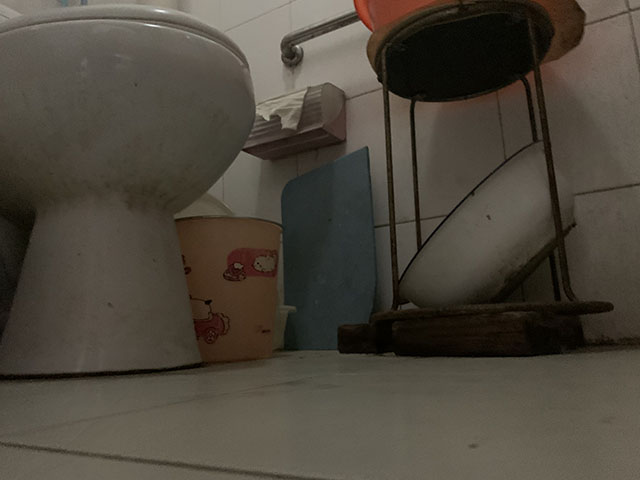closestool: (1, 1, 257, 381)
trashcan: (175, 213, 286, 365)
